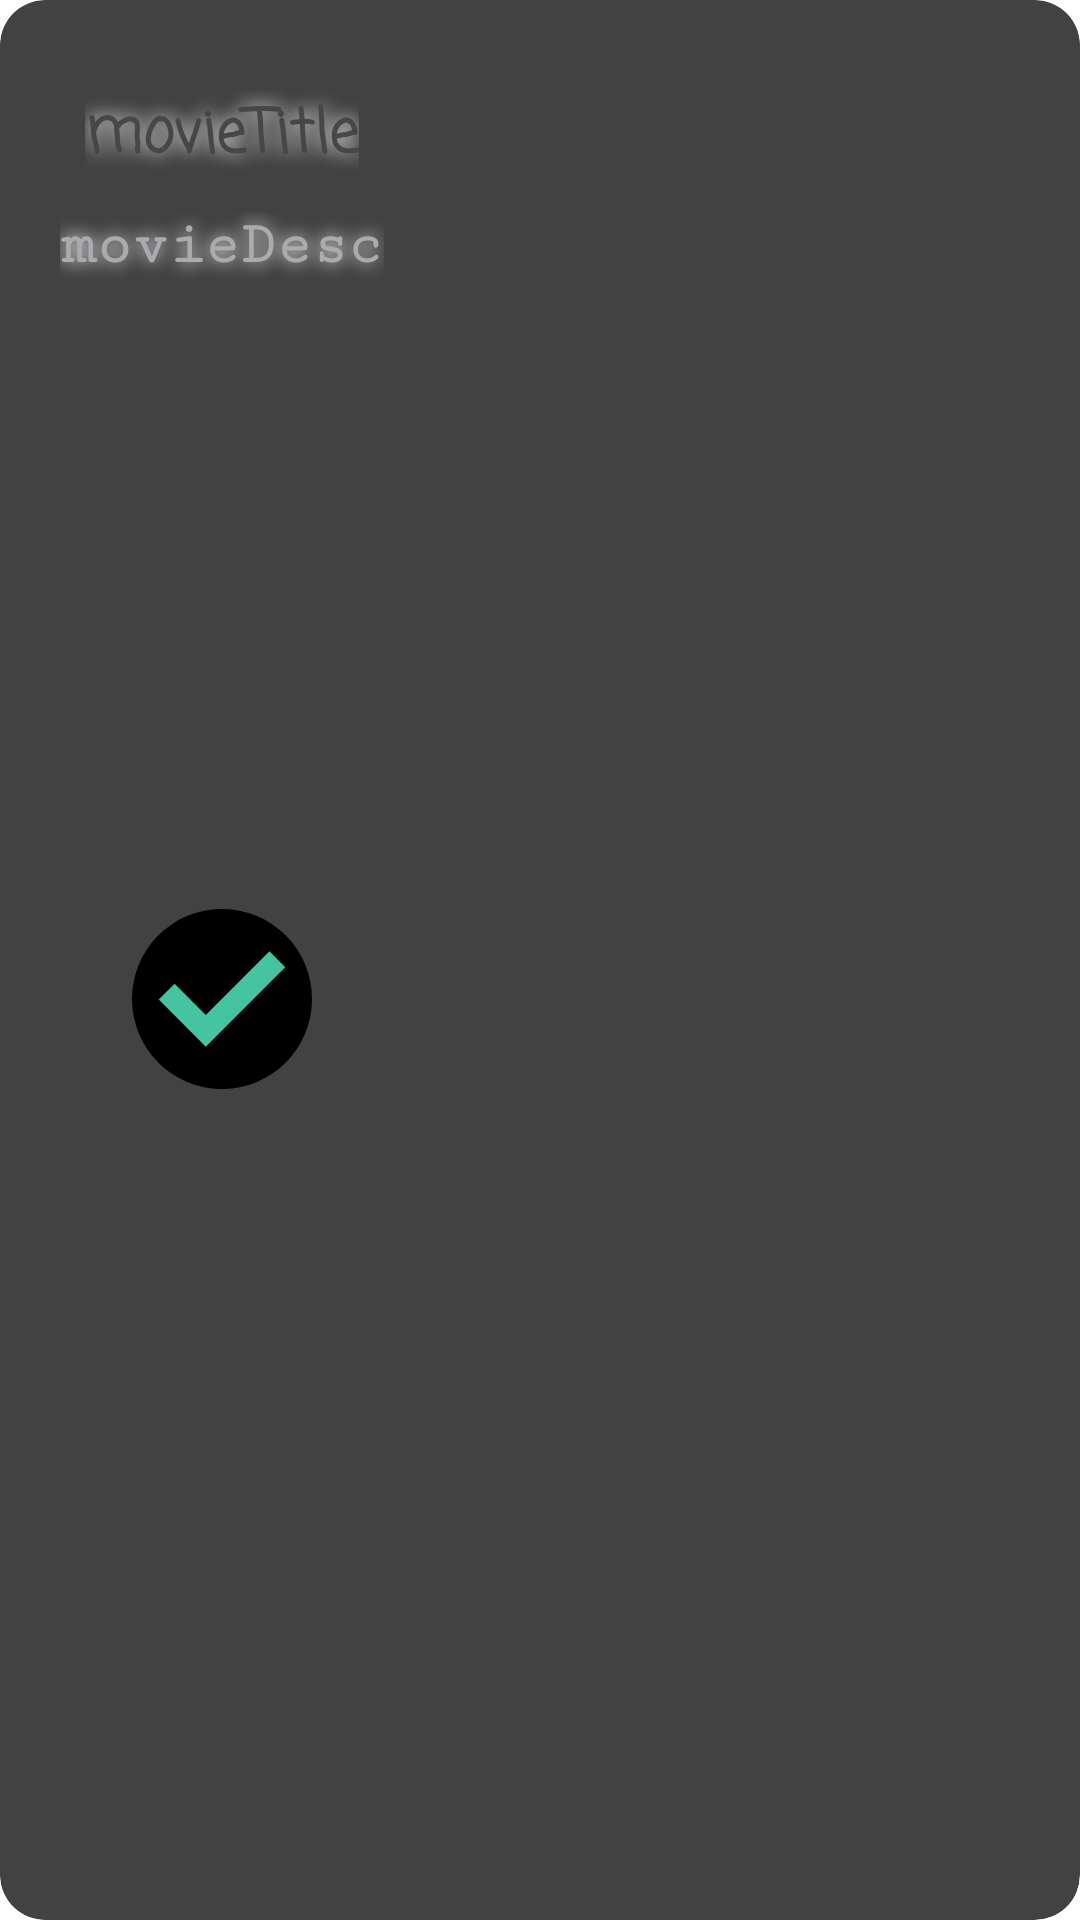

Icon click points for this 1080 × 1920 phone screenshot, format (x=x, y=y):
tick: (x=222, y=999)
